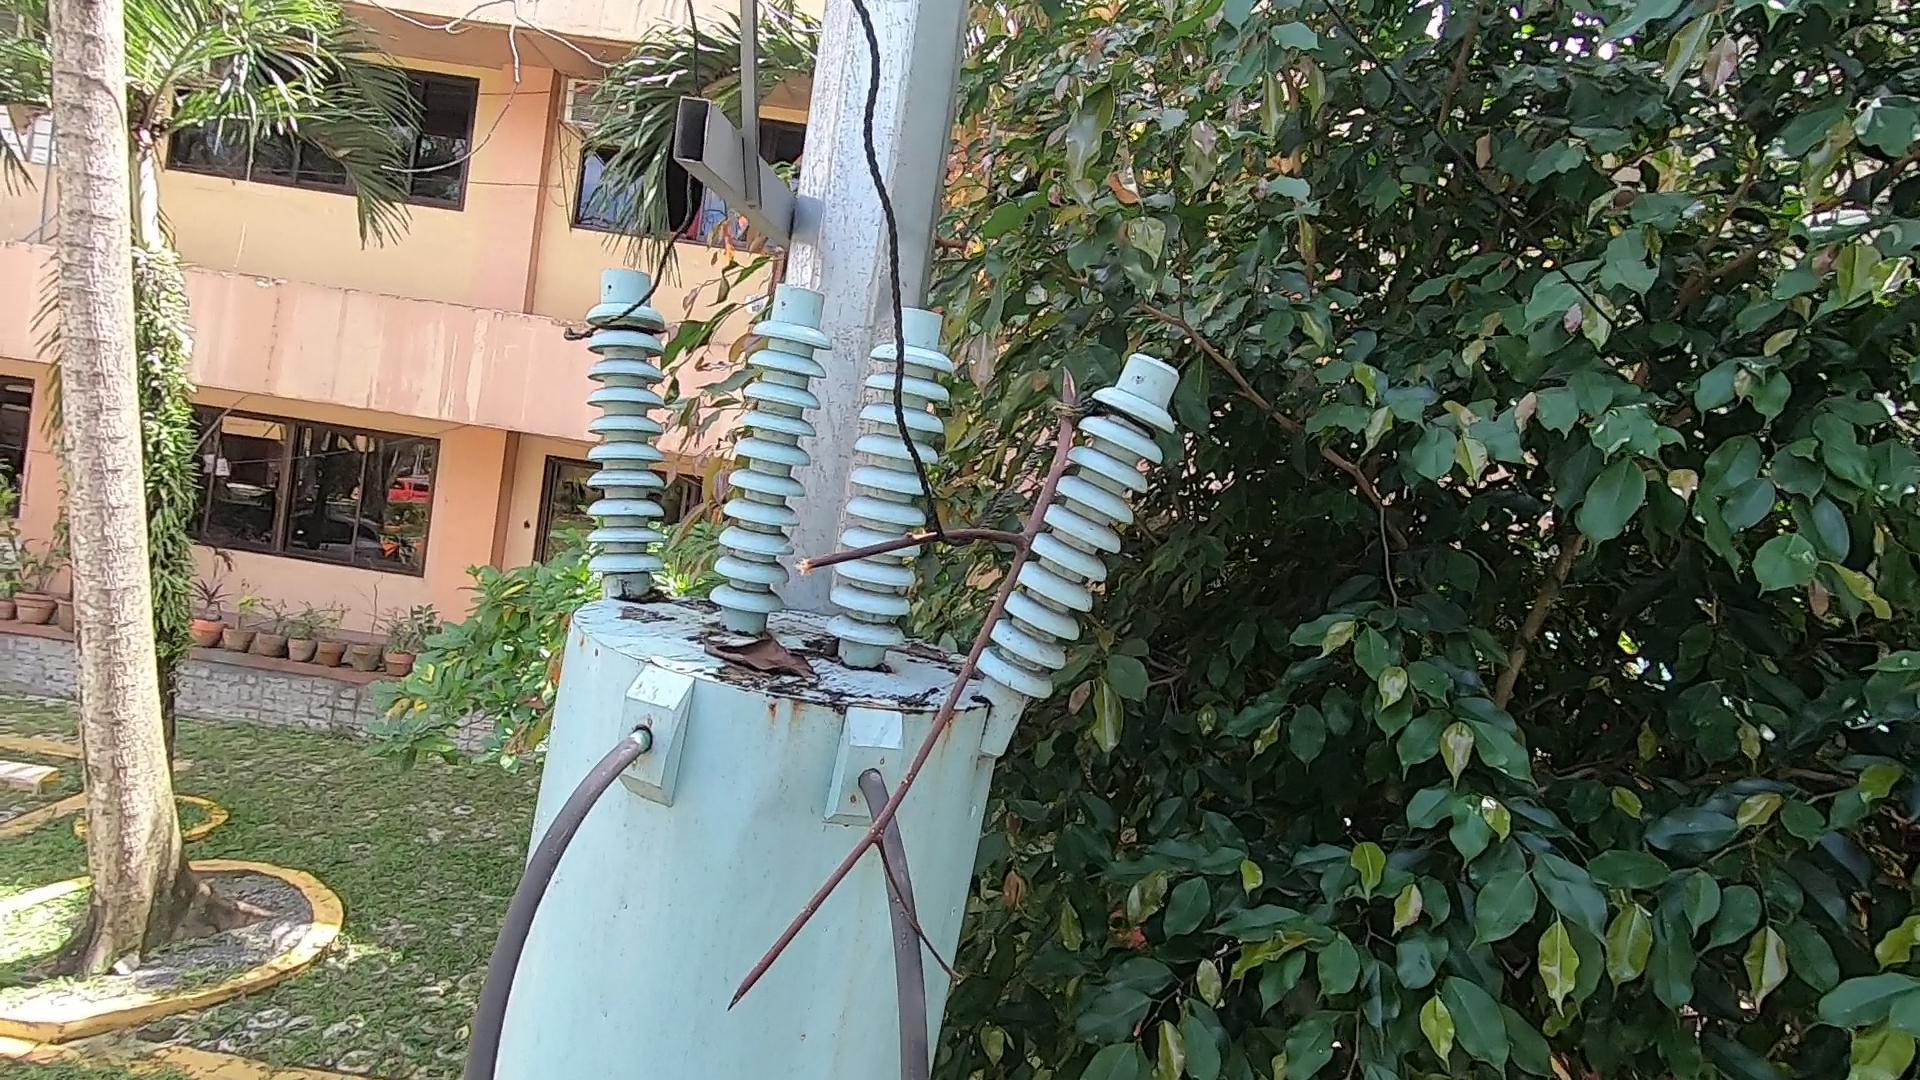leaf: (690, 359, 1117, 1029), (698, 621, 844, 707)
